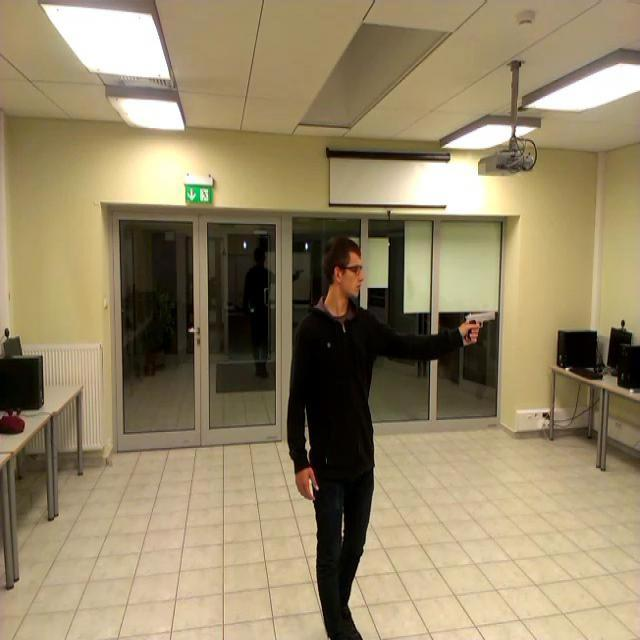weapon: (462, 312, 498, 344)
